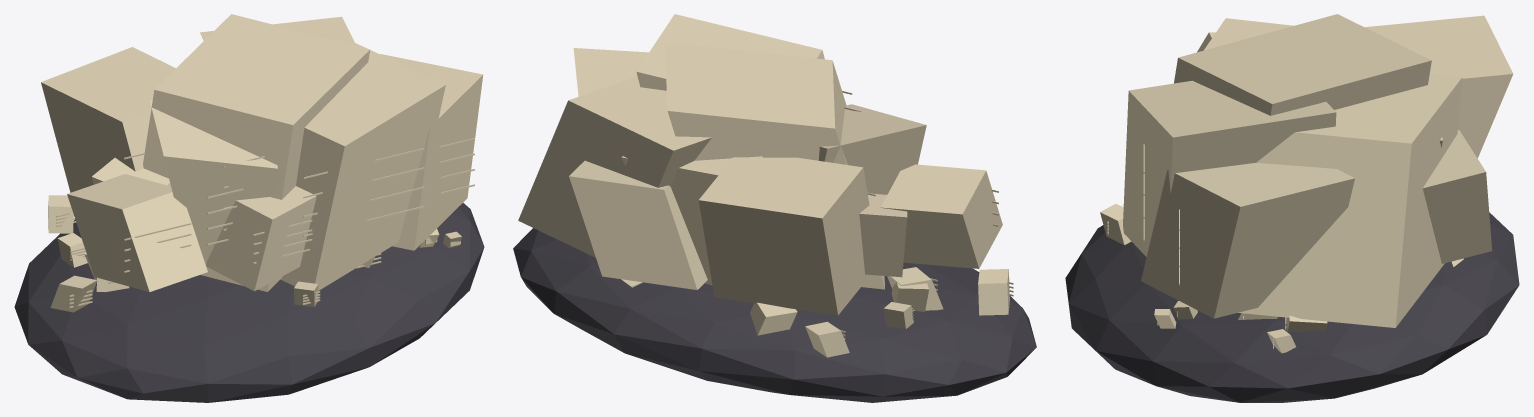
File: calcite.glb
The picture shows the model from 3 angles, left to right: view 1: azimuth 30°, elevation 25°; view 2: azimuth 150°, elevation 25°; view 3: azimuth 270°, elevation 25°; orthographic projection. The views are drawn at different scales.
Visible parts, largest first — view 1: Calcite; view 2: Calcite; view 3: Calcite.
Part boxes in pixels (x1=…): Calcite: x1=14, y1=14, x2=484, y2=402; Calcite: x1=513, y1=14, x2=1036, y2=402; Calcite: x1=1065, y1=14, x2=1519, y2=402.
Size of the model in its own units: 3.96 by 2.29 by 3.03.
